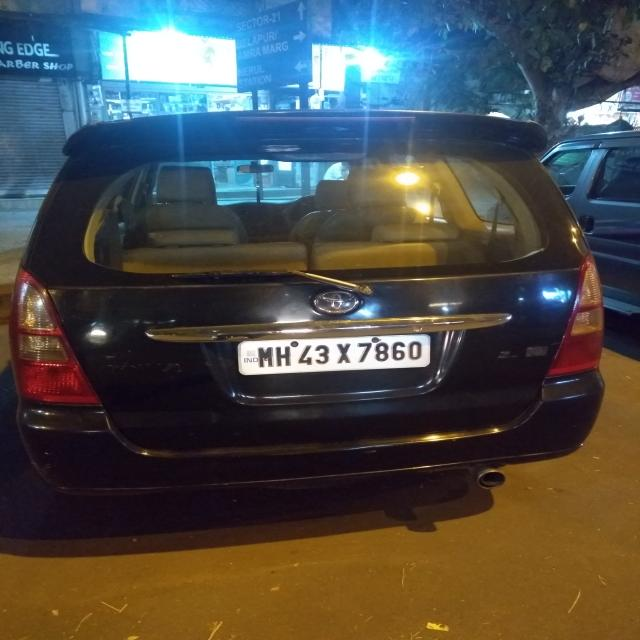Number-Plate: (239, 335, 428, 371)
